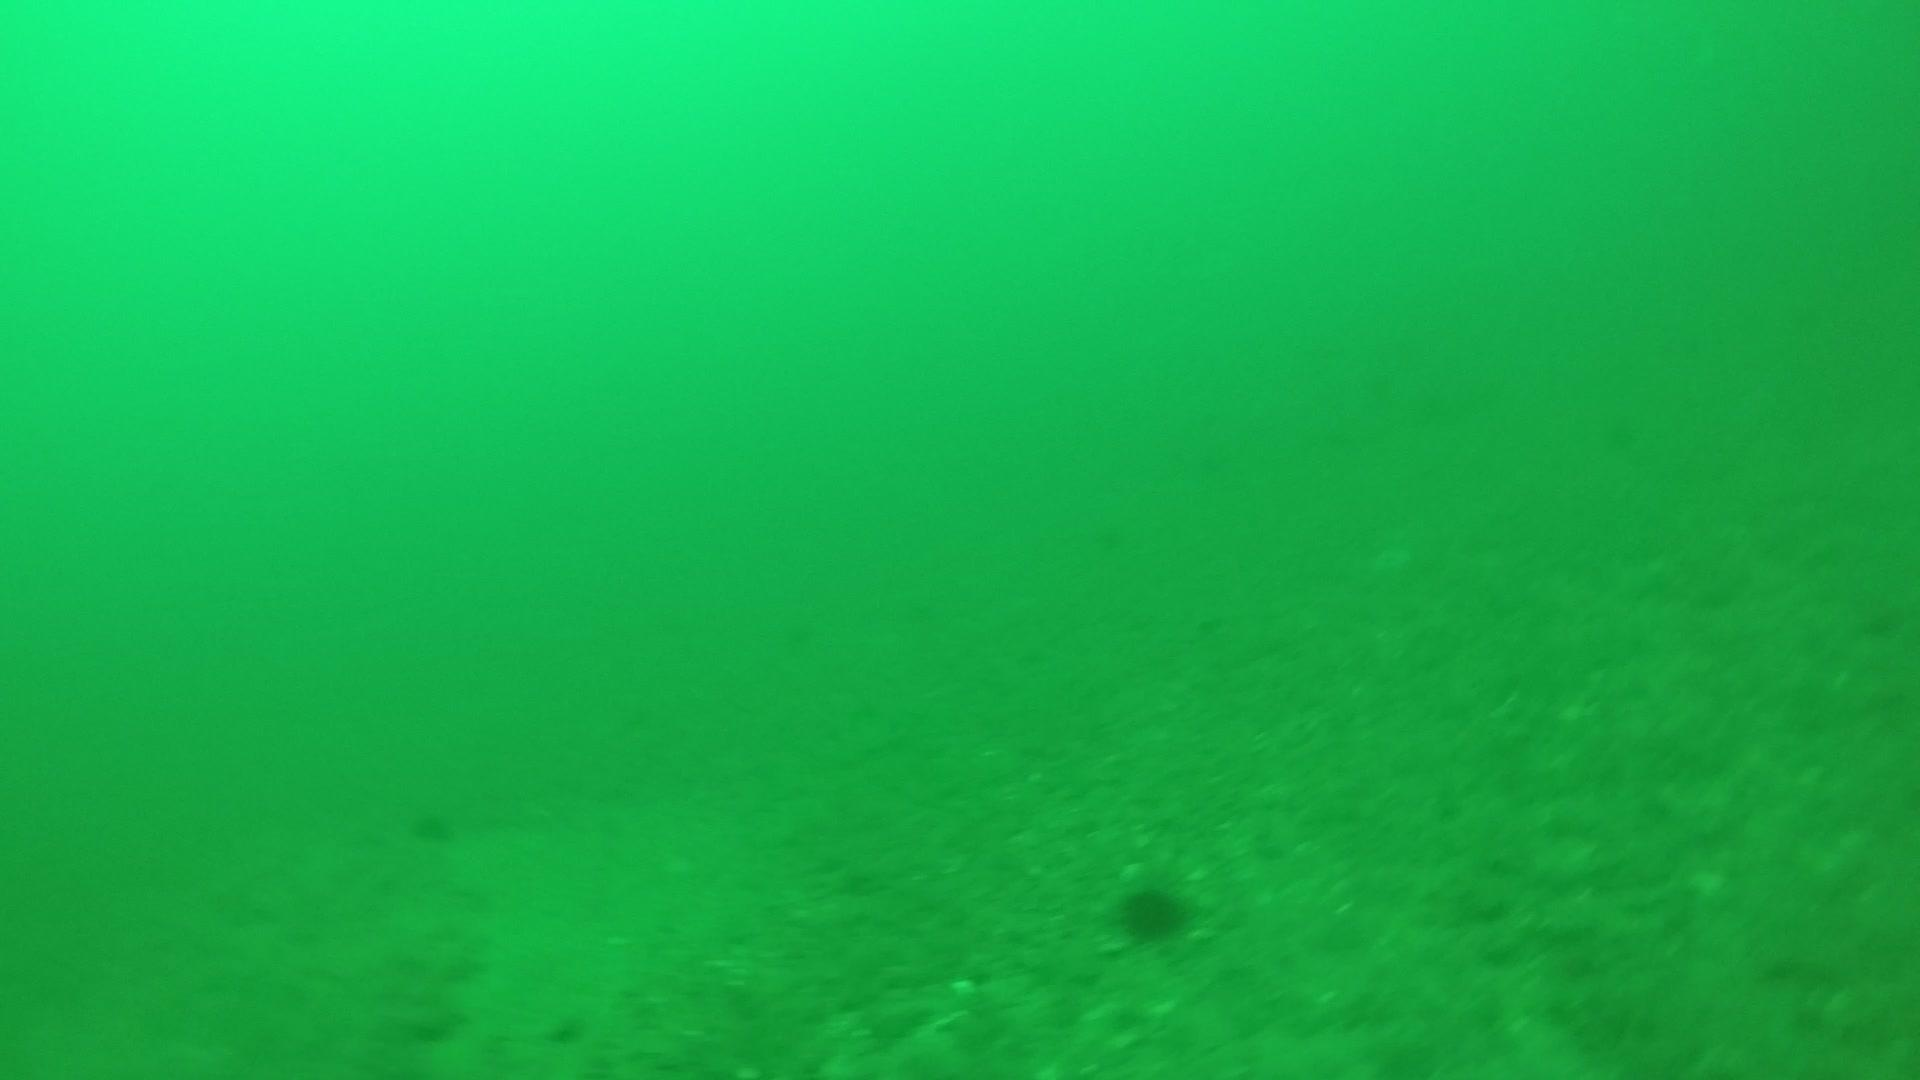echinus: (1110, 873, 1196, 945), (404, 800, 460, 848)
